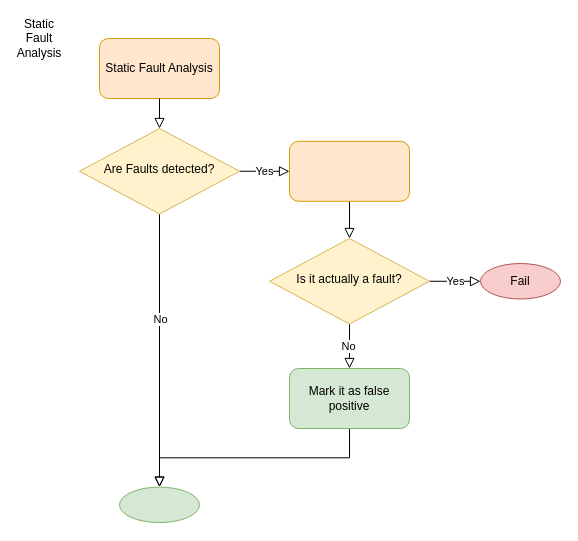
The diagram is 578 pixels wide and 541 high, and some of its shapes have lost their labels. The centre of each missing label's shape, as x and y in pixels:
Investigate the faults: the point at 349,170
Pass: the point at 159,504
